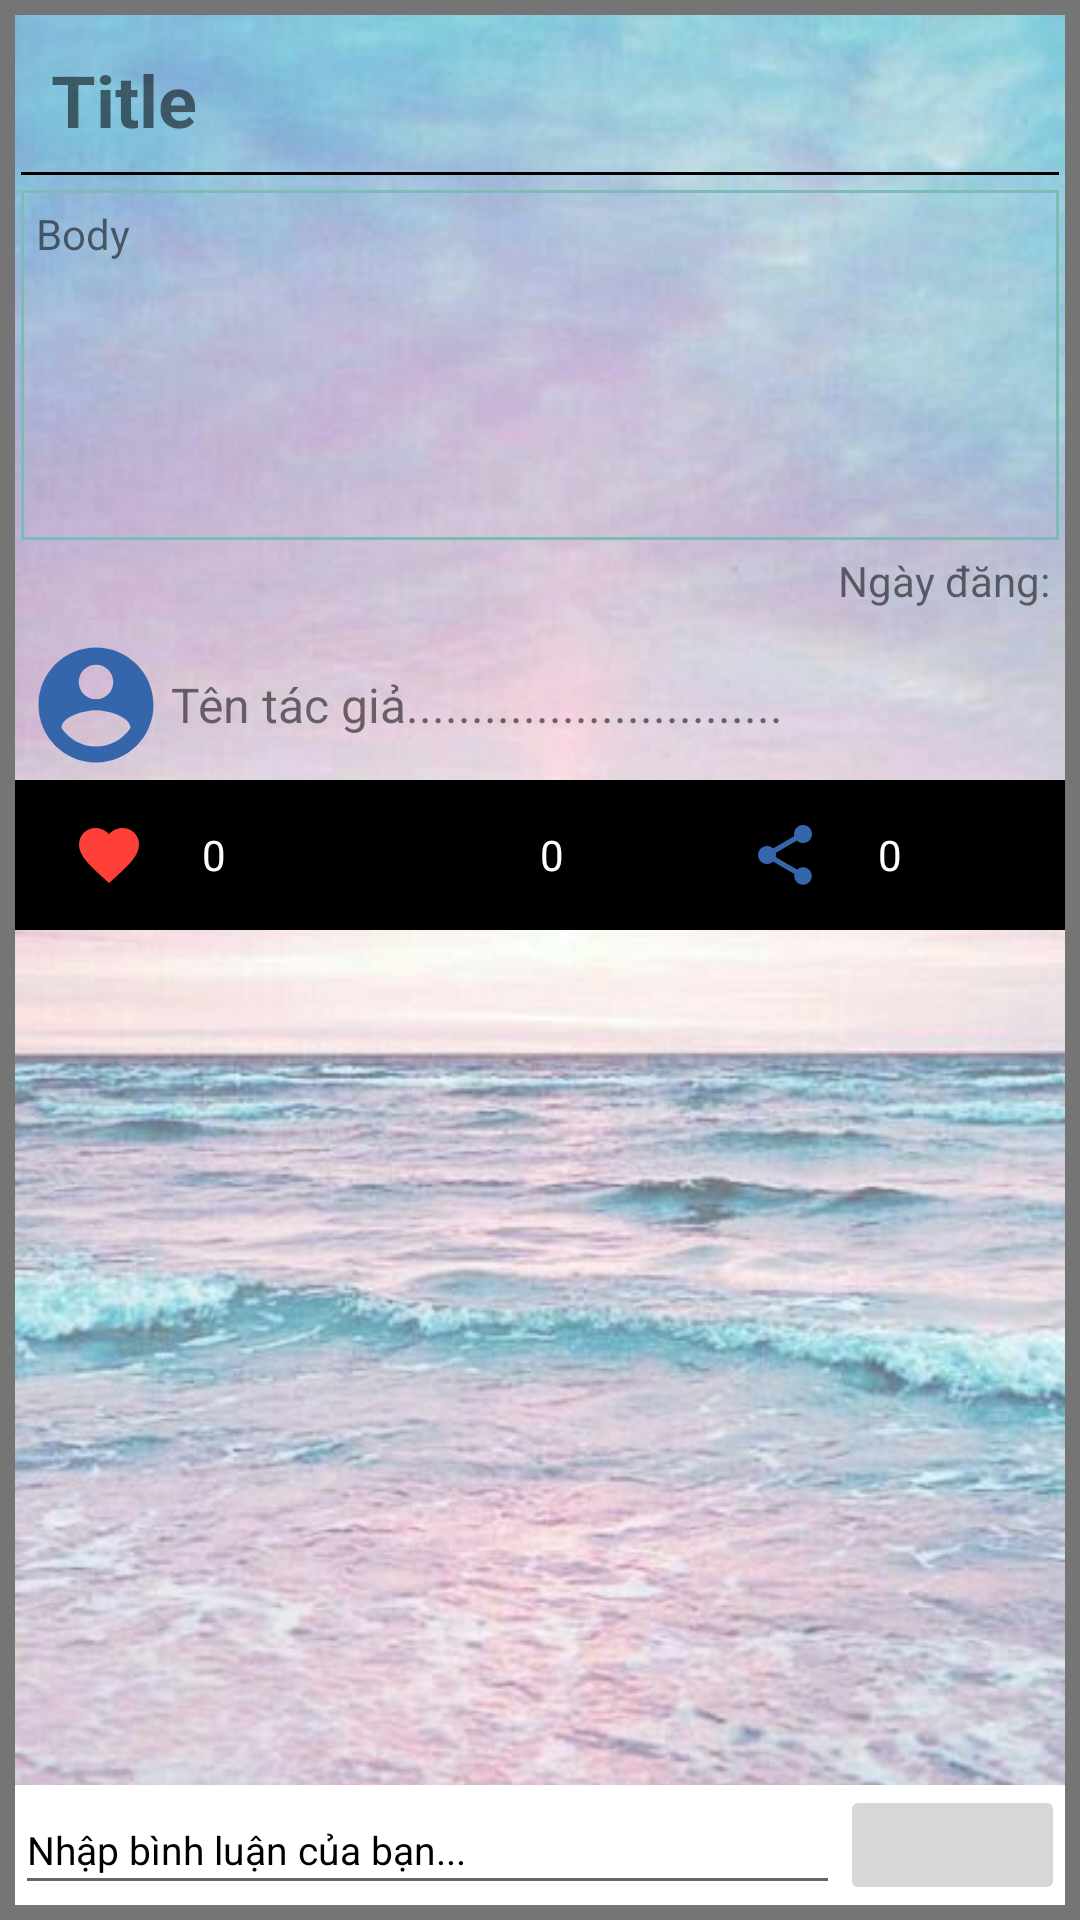

Icon bounding boxes for this 1080px x 1920px phone screenshot, format {"x1": x1, "y1": y1, "x2": x2, "y2": y2}:
account: {"x1": 38, "y1": 647, "x2": 154, "y2": 763}
share: {"x1": 758, "y1": 825, "x2": 812, "y2": 885}
